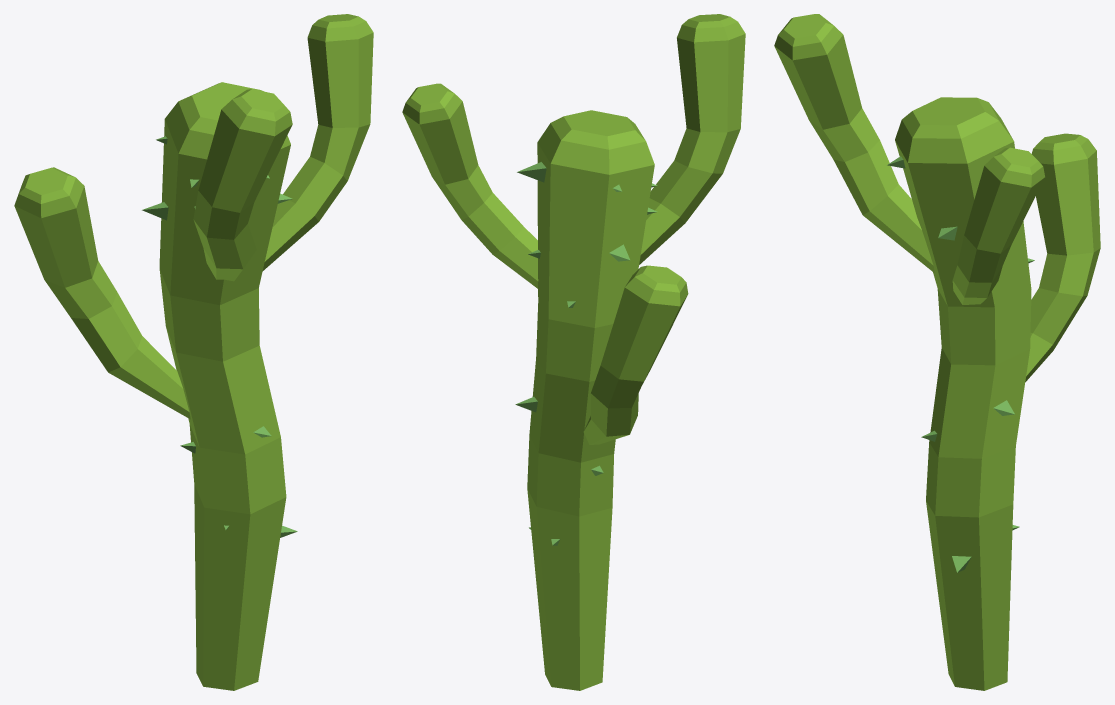
Rendered from model_tree_cactus_small.fbx.
3 views of the same model, side by side, from view 1: azimuth 30°, elevation 25°; view 2: azimuth 150°, elevation 25°; view 3: azimuth 270°, elevation 25° (orthographic). The views are drawn at different scales.
Visible parts, largest first — view 1: model_tree_cactus_small; view 2: model_tree_cactus_small; view 3: model_tree_cactus_small.
Boxes of the visible parts, x1=… form: model_tree_cactus_small: x1=14, y1=14, x2=373, y2=690; model_tree_cactus_small: x1=402, y1=14, x2=745, y2=690; model_tree_cactus_small: x1=774, y1=14, x2=1100, y2=690.
Size of the model in its own units: 136 by 267 by 125.
1 material, 1 textured.
